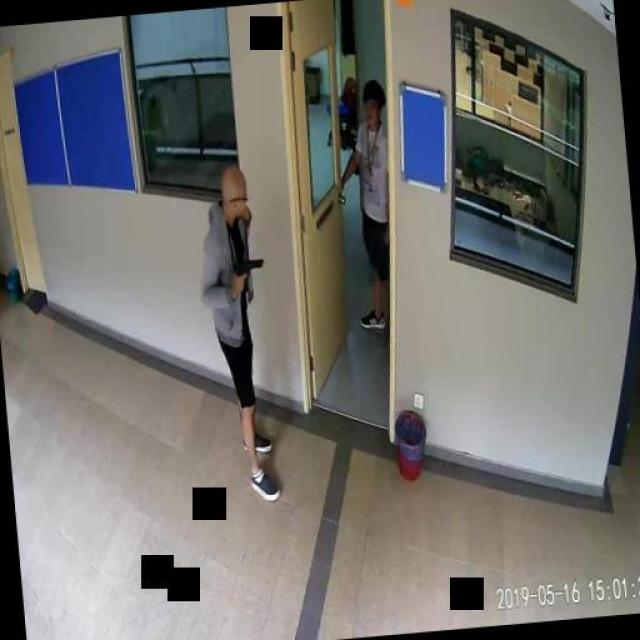gun: (232, 255, 264, 291)
